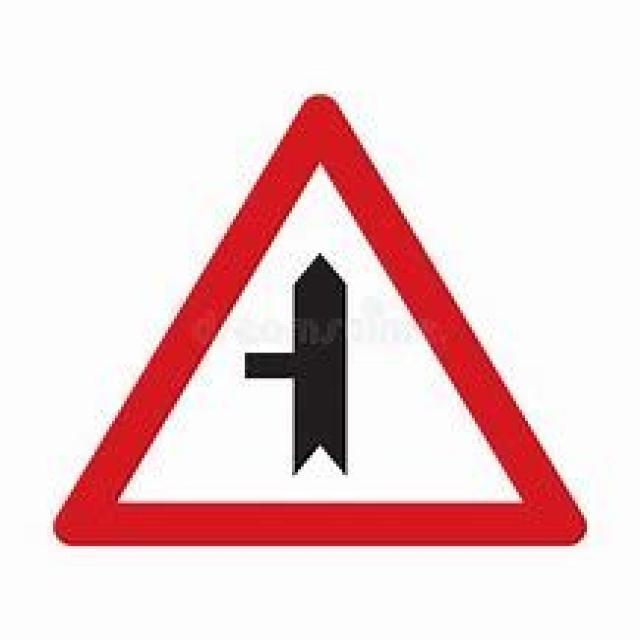SIDE_ROAD_LEFT: (54, 93, 594, 552)
